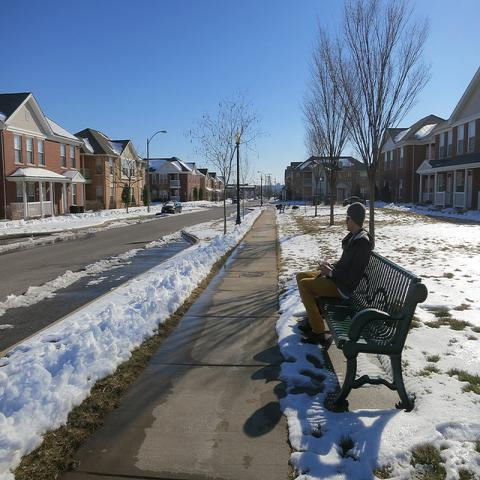car: (161, 200, 182, 215), (233, 197, 237, 205)
